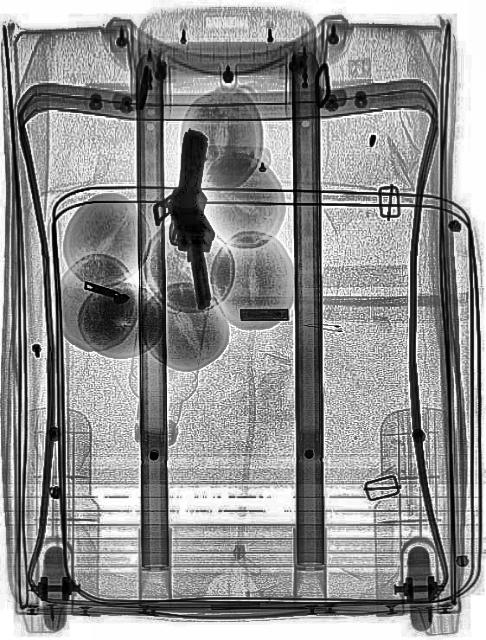Gun: (145, 121, 245, 259), (150, 180, 225, 316)
